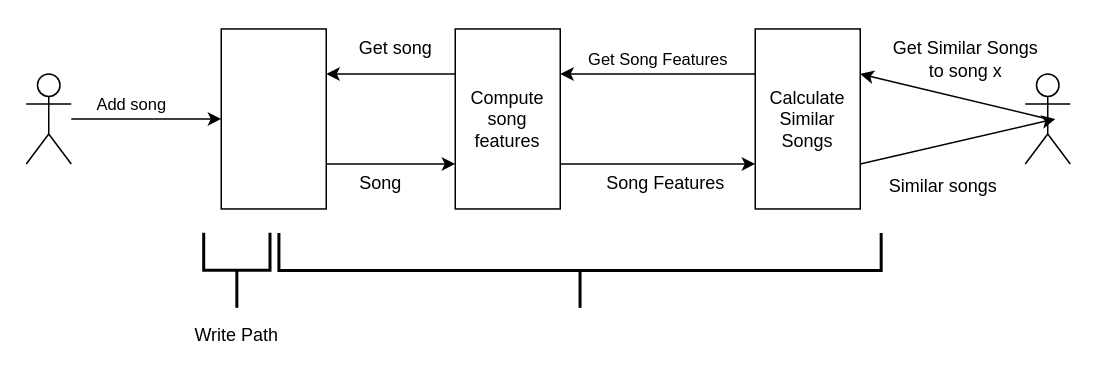
Image size: 1097x383. Some labels were removed from this diagram. The centre of each missing label's shape, as x and y in pixels:
Read Path: point (579, 270)
Song Repository: point (273, 118)
